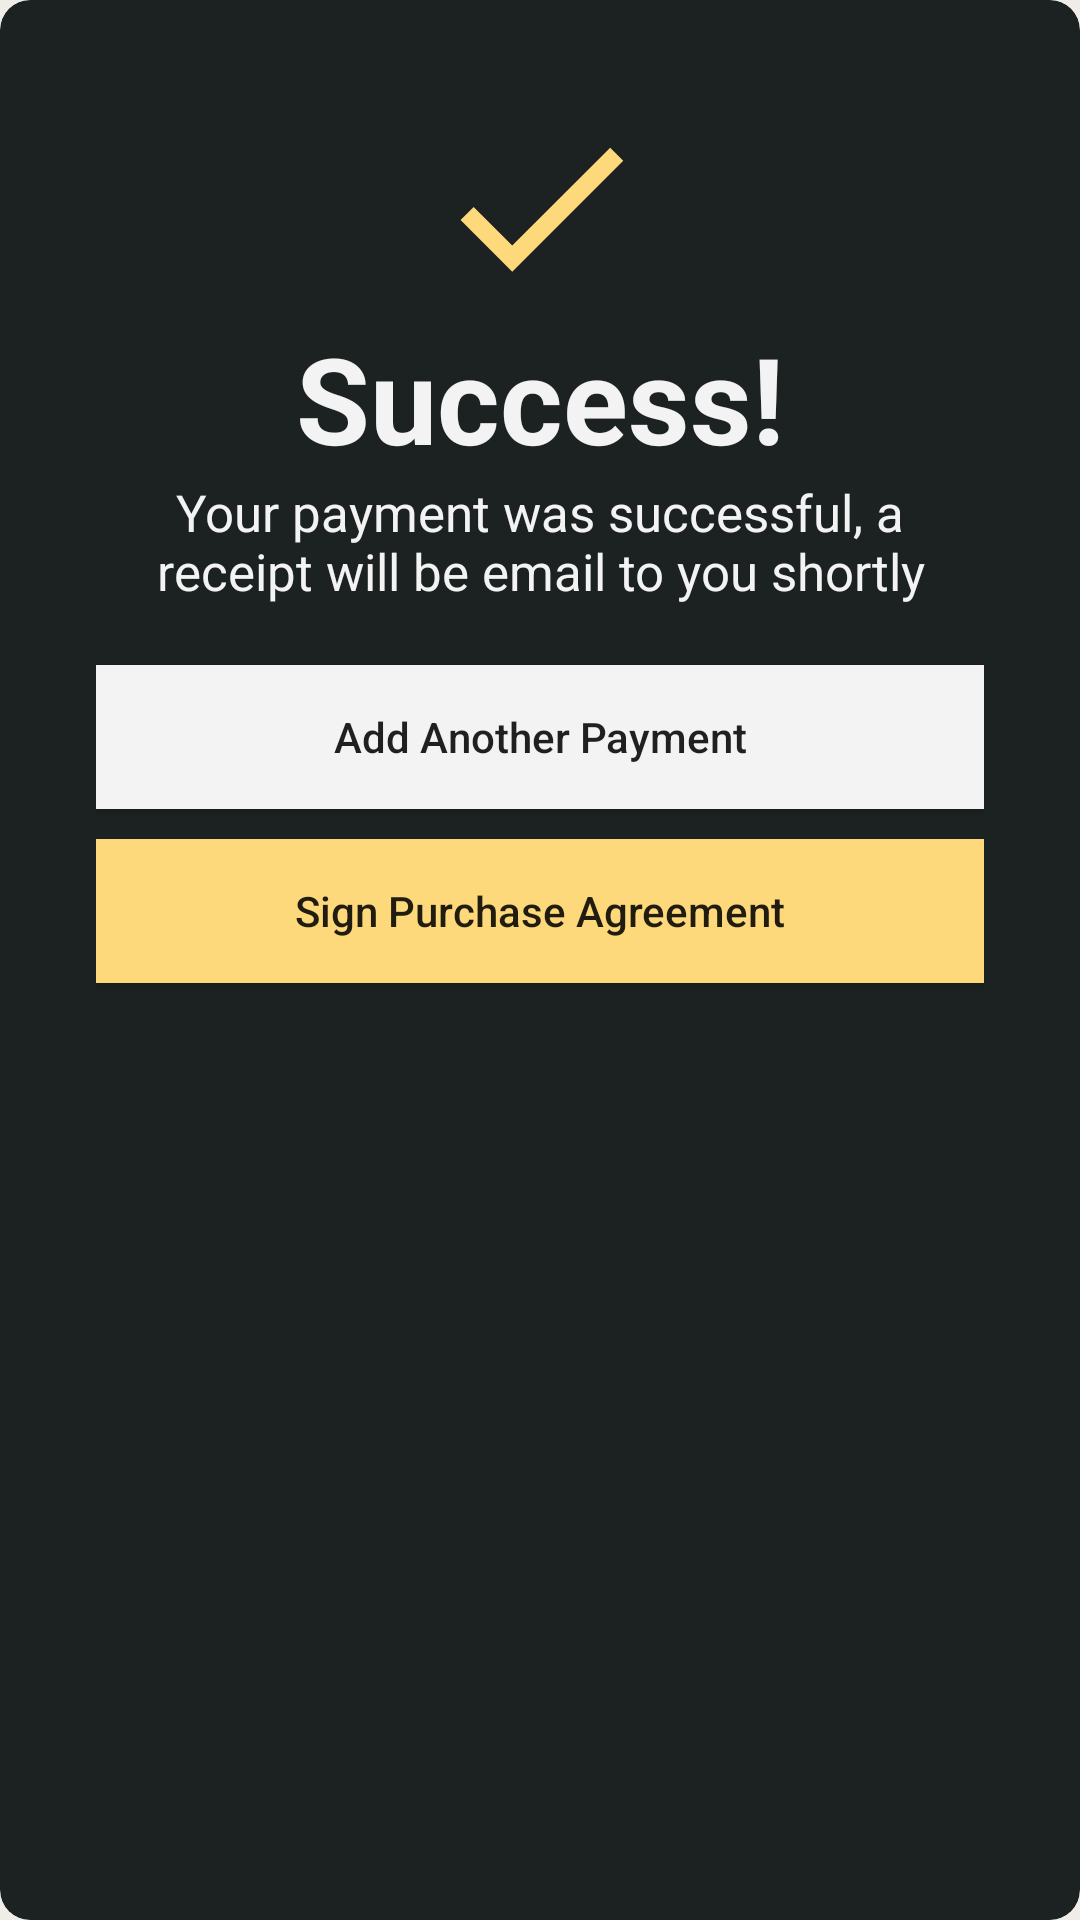

Locate icon controls on the screen. Image size 1080x1920, boxes as (x1, y1, x2, y2).
checkmark: (461, 148, 623, 272)
